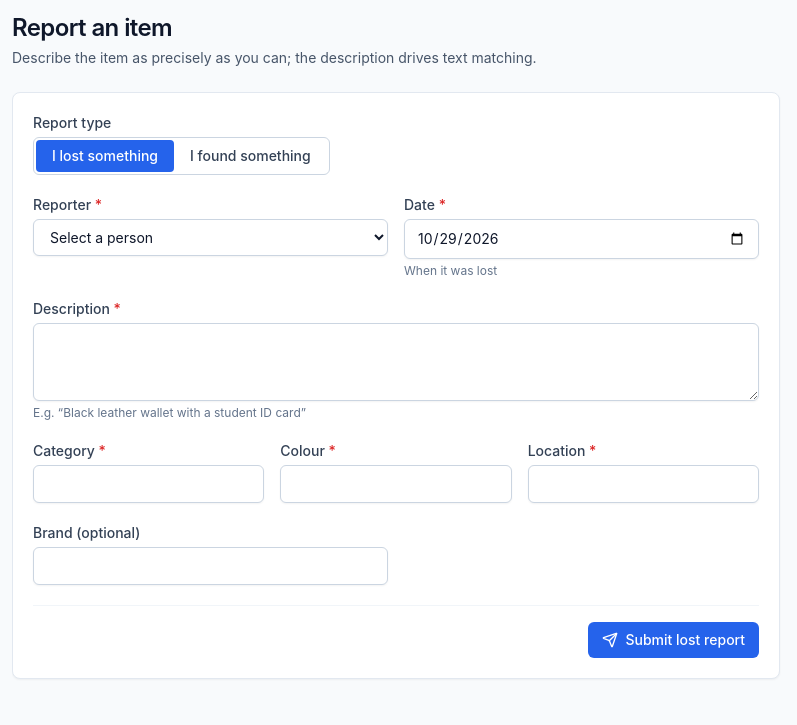
Report an item › shows field-level errors for missing required fields and sends nothing
This screenshot has width=797, height=725.
Click the button "Submit lost report": (673, 640) [588, 622, 759, 658]
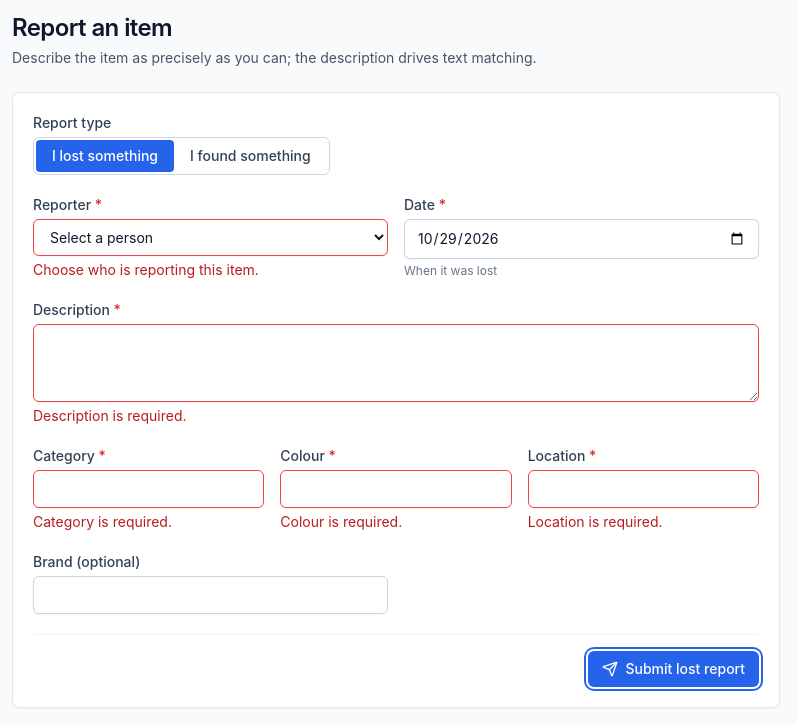
Now the text "Choose who is reporting this item." is shown, box [33, 261, 259, 278]
Now the text "Description is required." is shown, box [33, 407, 187, 424]
Now the text "Category is required." is shown, box [33, 513, 172, 530]
